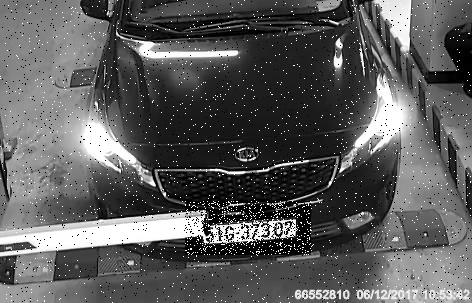License-plate: (187, 202, 314, 256)
